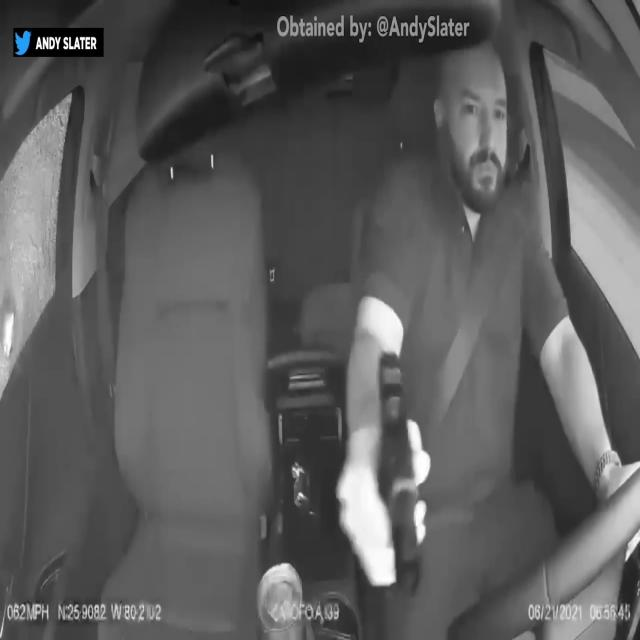senjata_api: (376, 350, 421, 593)
